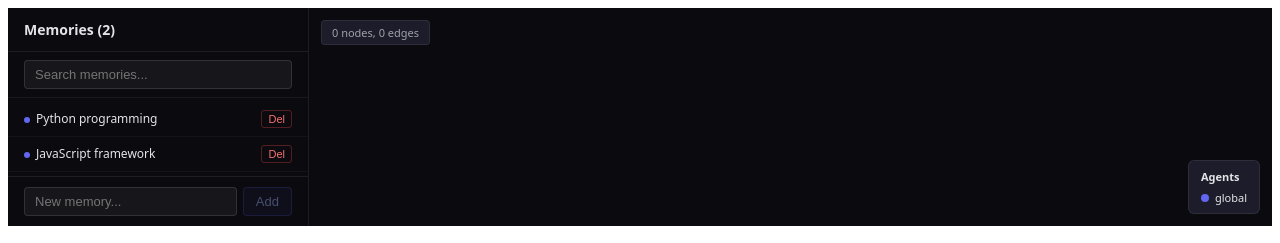
Test: MemoryGraph › filters memories by search text
In the field labelled "Search memories": point(158, 74) [24,60,292,89], type "Python"
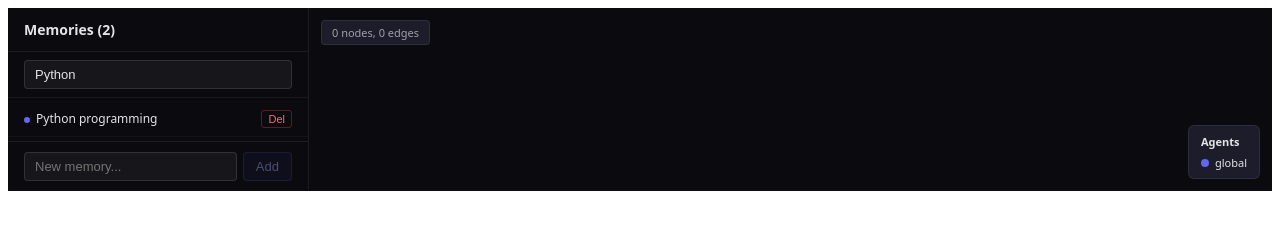
Check: the text "Python programming" is shown, box [24,110,158,127]
Check: the text "JavaScript framework" is gone
